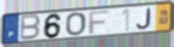1: (121, 8, 131, 33)
6: (42, 12, 64, 39)
B: (18, 13, 42, 41)
F: (88, 10, 110, 35)
J: (135, 7, 152, 30)
O: (65, 12, 87, 37)
